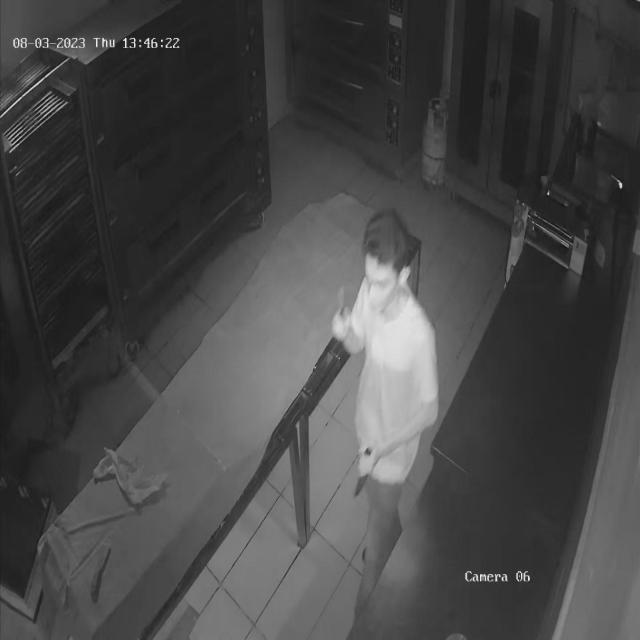Knife: (347, 438, 384, 511)
